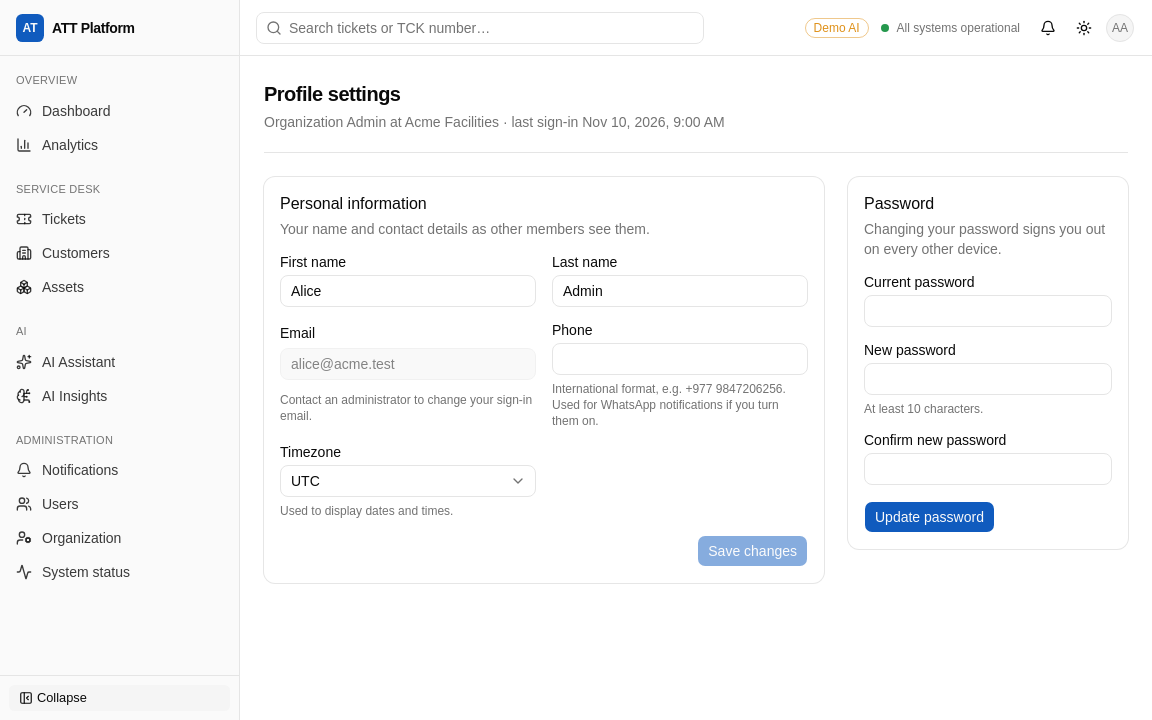
Test case: Profile settings › maps a wrong current password onto its field
The width and height of the screenshot is (1152, 720).
Type "nope" into the password field labelled "Current password" at point(988, 311), box [864, 295, 1112, 327]
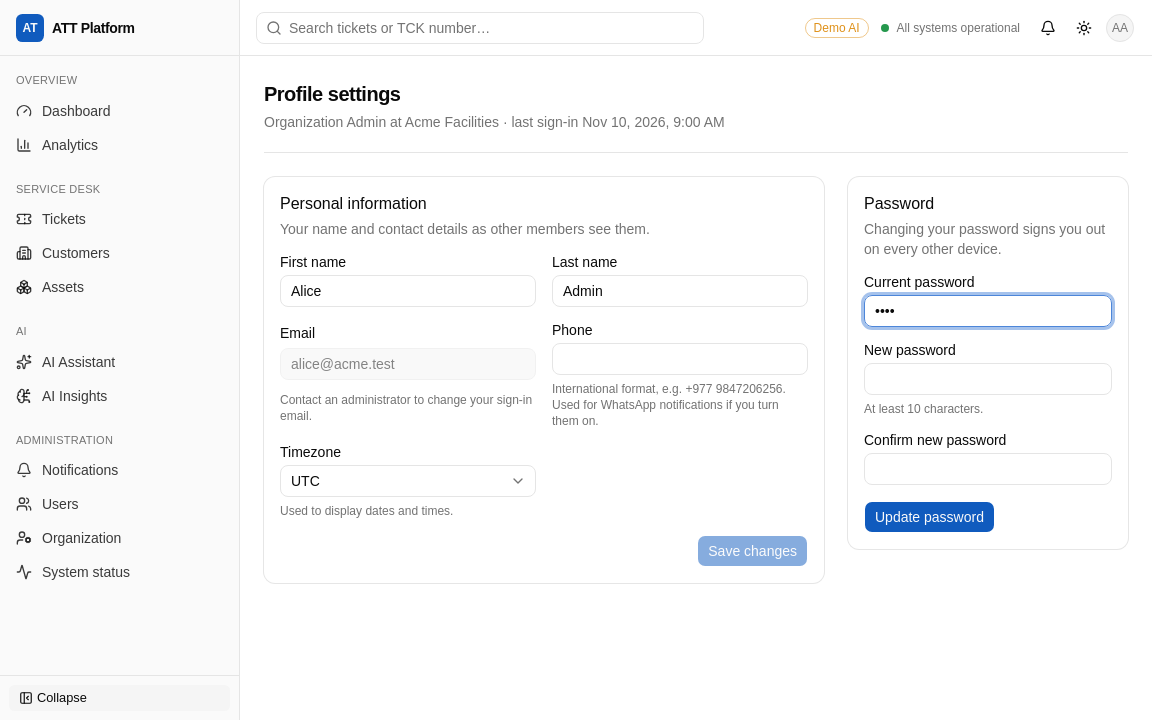
Type "Another-Strong-99" into the password field labelled "New password" at point(988, 379), box [864, 363, 1112, 395]
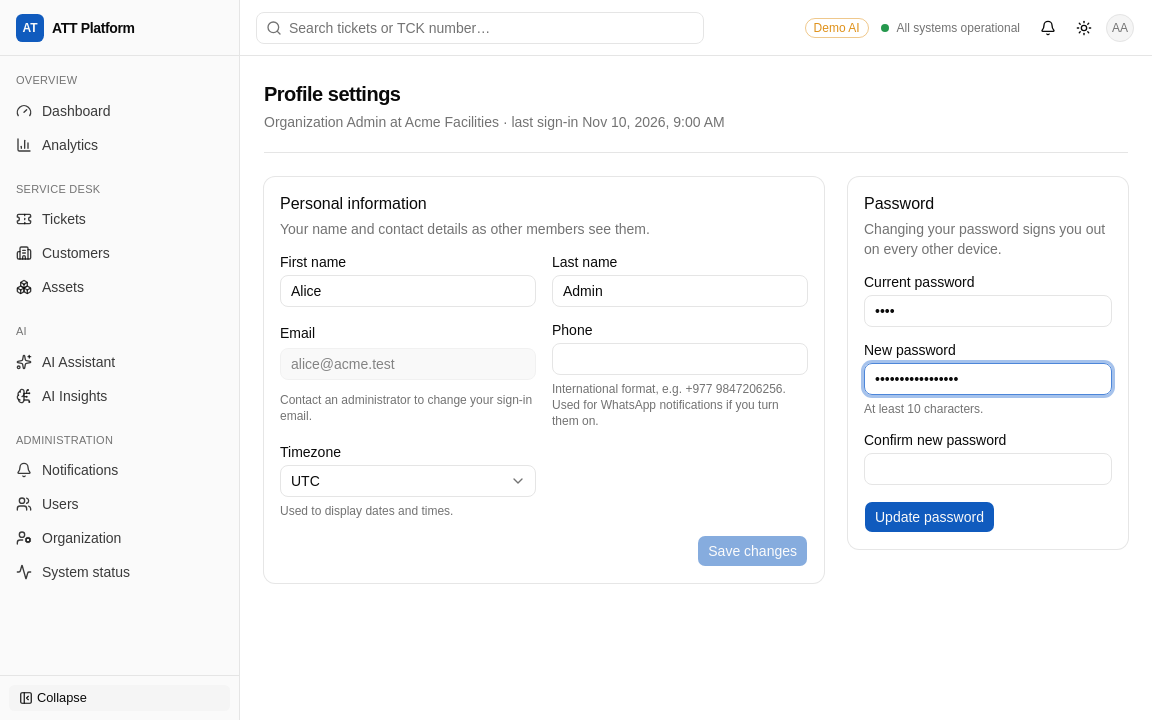
Type "Another-Strong-99" into the password field labelled "Confirm new password" at point(988, 469), box [864, 453, 1112, 485]
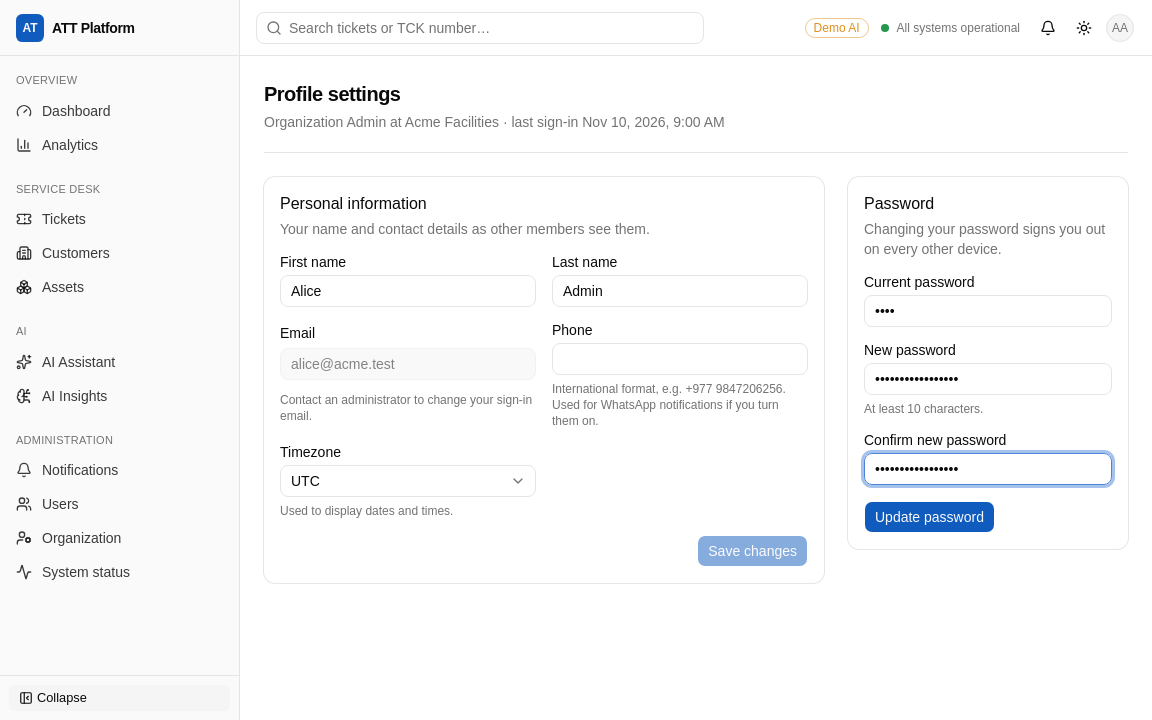
Click the button "Update password" at point(930, 517), box [864, 501, 995, 533]
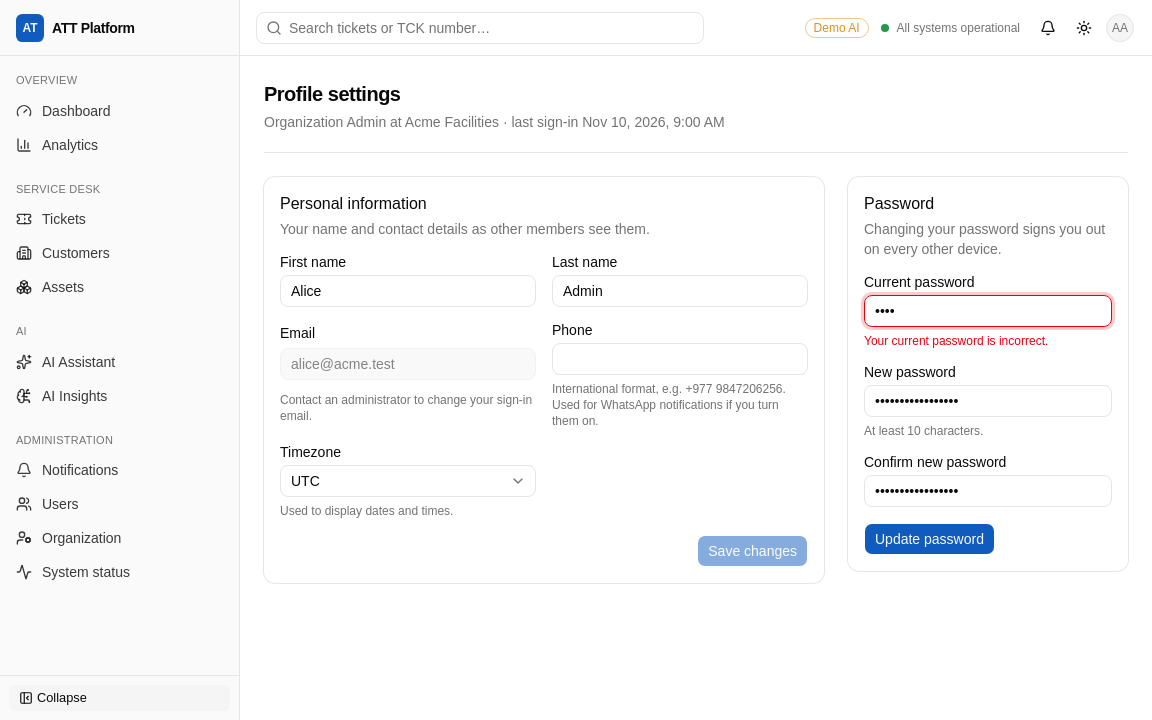
Expected: the text "Your current password is incorrect." is shown, [864, 334, 1048, 348]
